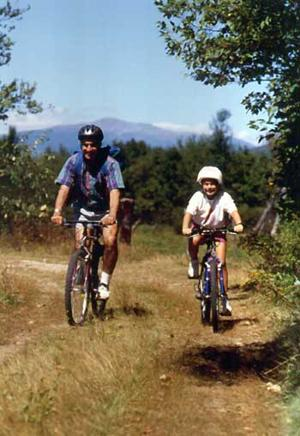person: (51, 123, 125, 297)
